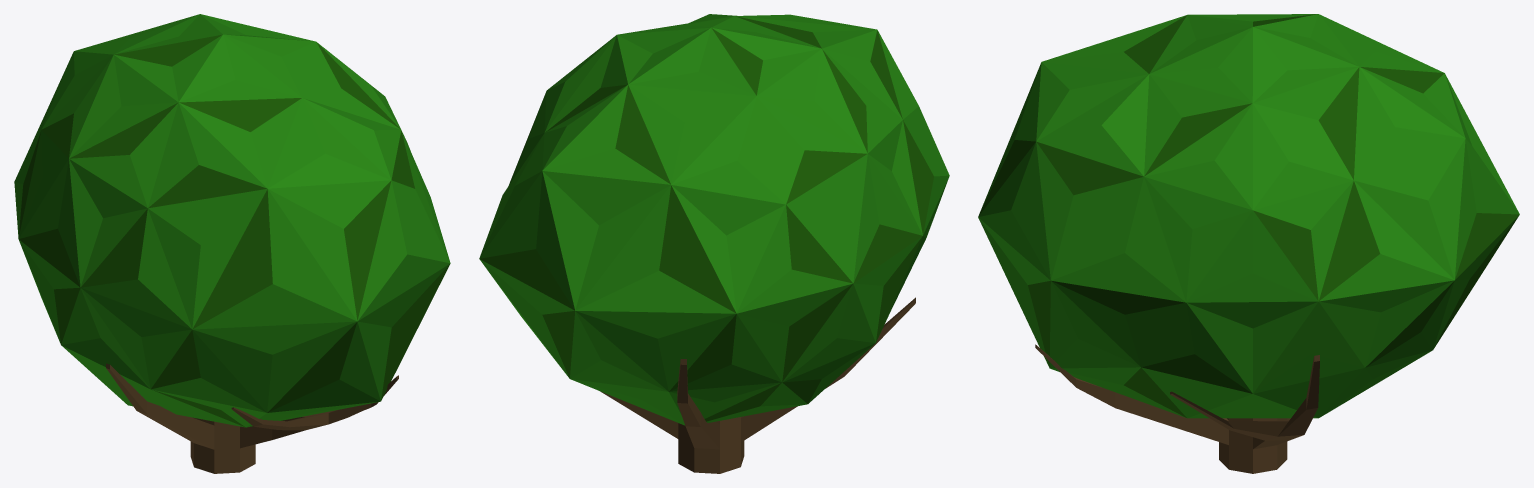
File: MSH_Bush_01.fbx
3 views of the same model, side by side, from view 1: azimuth 30°, elevation 25°; view 2: azimuth 150°, elevation 25°; view 3: azimuth 270°, elevation 25° (orthographic).
Visible parts, largest first — view 1: MSH_Bush_01; view 2: MSH_Bush_01; view 3: MSH_Bush_01.
Part boxes in pixels (box(x1,y1,x2,y2)): MSH_Bush_01: box(14, 14, 450, 473); MSH_Bush_01: box(479, 14, 949, 473); MSH_Bush_01: box(978, 14, 1519, 473).
Bounding box in the file's own units: 21.32 × 24.75 × 28.1.
